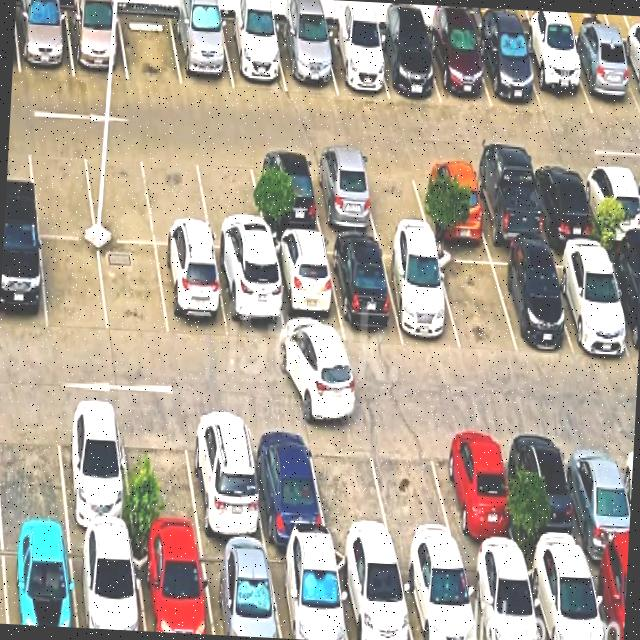empty: (368, 425, 459, 553), (308, 422, 394, 551), (120, 408, 201, 541), (435, 248, 517, 352), (0, 403, 67, 530), (83, 143, 155, 244), (195, 150, 267, 250), (143, 147, 212, 246), (99, 242, 169, 339), (28, 139, 95, 238), (40, 238, 108, 332), (359, 156, 430, 236), (119, 11, 182, 85)
occupied: (435, 425, 519, 557), (185, 413, 265, 544), (247, 417, 328, 545), (56, 403, 133, 536), (508, 427, 586, 558), (548, 247, 632, 355), (562, 430, 631, 559), (380, 243, 460, 349), (489, 250, 572, 351), (325, 240, 403, 343), (269, 238, 344, 343), (199, 543, 281, 638), (133, 540, 213, 635), (267, 547, 347, 640), (70, 535, 145, 631), (334, 549, 413, 640), (2, 533, 77, 628), (397, 555, 478, 640), (461, 555, 541, 640), (524, 557, 605, 640), (156, 246, 228, 339), (214, 250, 286, 342), (470, 161, 545, 245), (415, 159, 487, 241), (250, 153, 322, 235), (566, 38, 640, 117), (307, 154, 378, 235), (520, 37, 592, 114), (529, 162, 598, 242), (475, 31, 542, 111), (426, 30, 491, 106), (373, 31, 441, 103), (220, 19, 287, 92), (0, 230, 47, 331), (170, 15, 234, 89), (581, 163, 640, 243), (323, 28, 389, 99), (66, 9, 128, 80), (275, 26, 337, 93), (15, 7, 74, 76), (604, 248, 640, 360), (586, 558, 628, 640), (617, 43, 640, 109)
